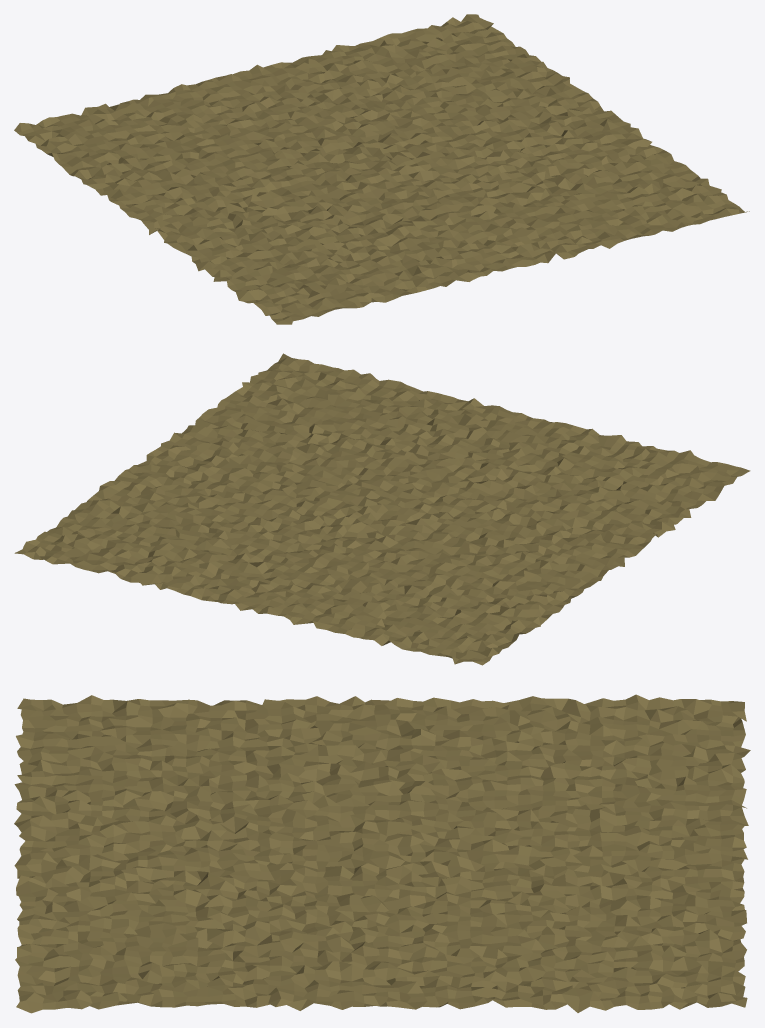
File: Ground.fbx
The picture shows the model from 3 angles, top to bottom: view 1: azimuth 30°, elevation 25°; view 2: azimuth 150°, elevation 25°; view 3: azimuth 270°, elevation 25°; orthographic projection. The views are drawn at different scales.
Parts seen in each view (by area): view 1: Plane.118; view 2: Plane.118; view 3: Plane.118.
Part boxes in pixels (left/top/right/bottom): Plane.118: left=14, top=14, right=749, bottom=324; Plane.118: left=14, top=353, right=750, bottom=665; Plane.118: left=14, top=694, right=750, bottom=1013.
Size of the model in its own units: 102 by 102 by 1.98.
1 material, 1 textured.
